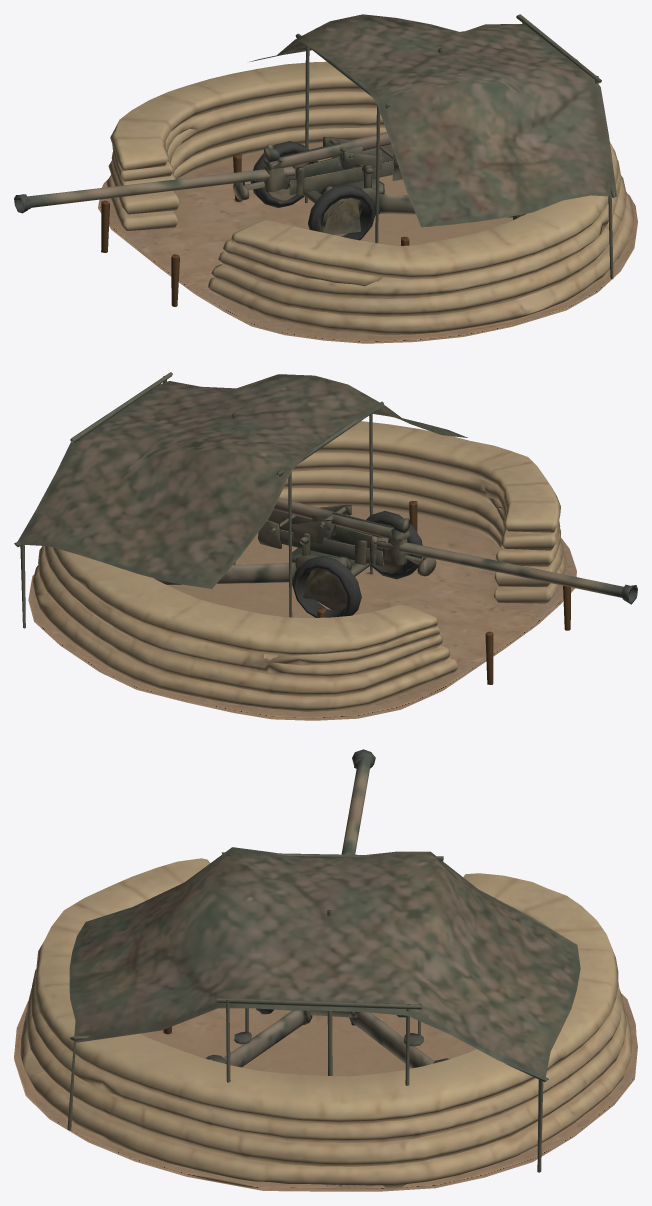
The model's file is us-firebase.glb.
3 views of the same model, one above another, from view 1: azimuth 30°, elevation 25°; view 2: azimuth 150°, elevation 25°; view 3: azimuth 270°, elevation 25° (orthographic). The views are drawn at different scales.
Parts seen in each view (by area): view 1: geometry_0; view 2: geometry_0; view 3: geometry_0.
Part boxes in pixels (x1,y1,x2,y2): geometry_0: [14, 14, 637, 343]; geometry_0: [14, 372, 637, 720]; geometry_0: [14, 749, 637, 1191].
Size of the model in its own units: 1 by 0.3097 by 0.8334.
1 material, 1 textured.
